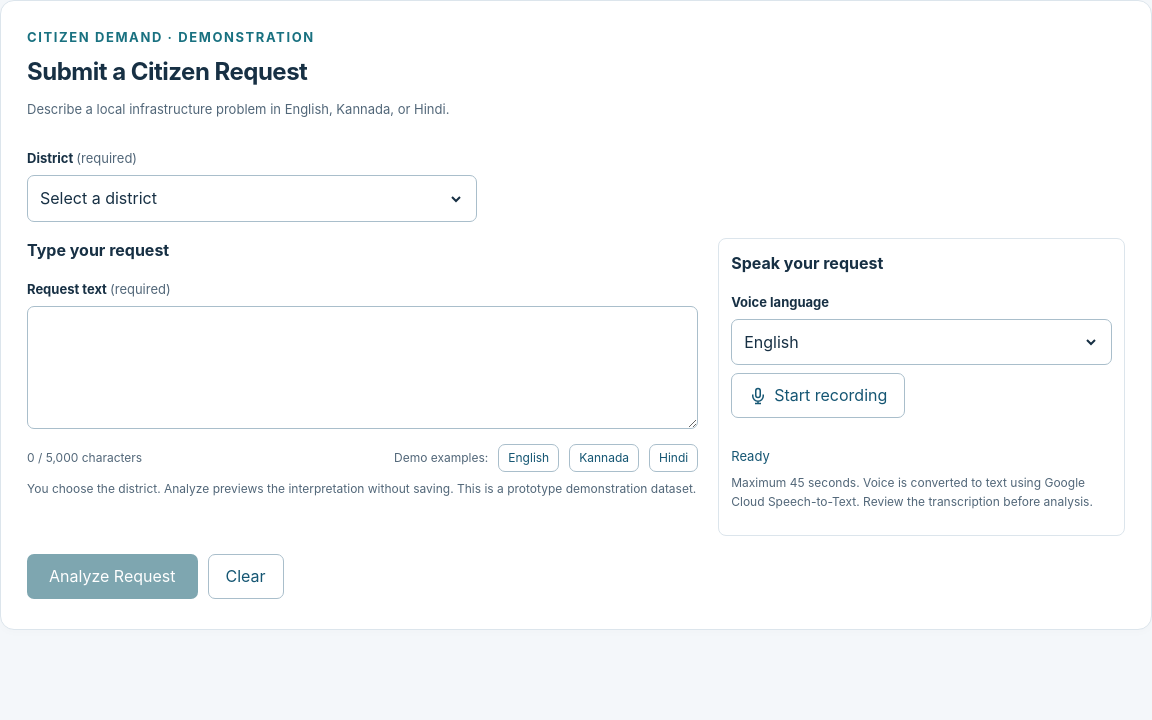
it: permission denial is safe and never uploads
The image size is (1152, 720).
Click the button "Start recording".
click(818, 396)  # box [731,373,905,418]
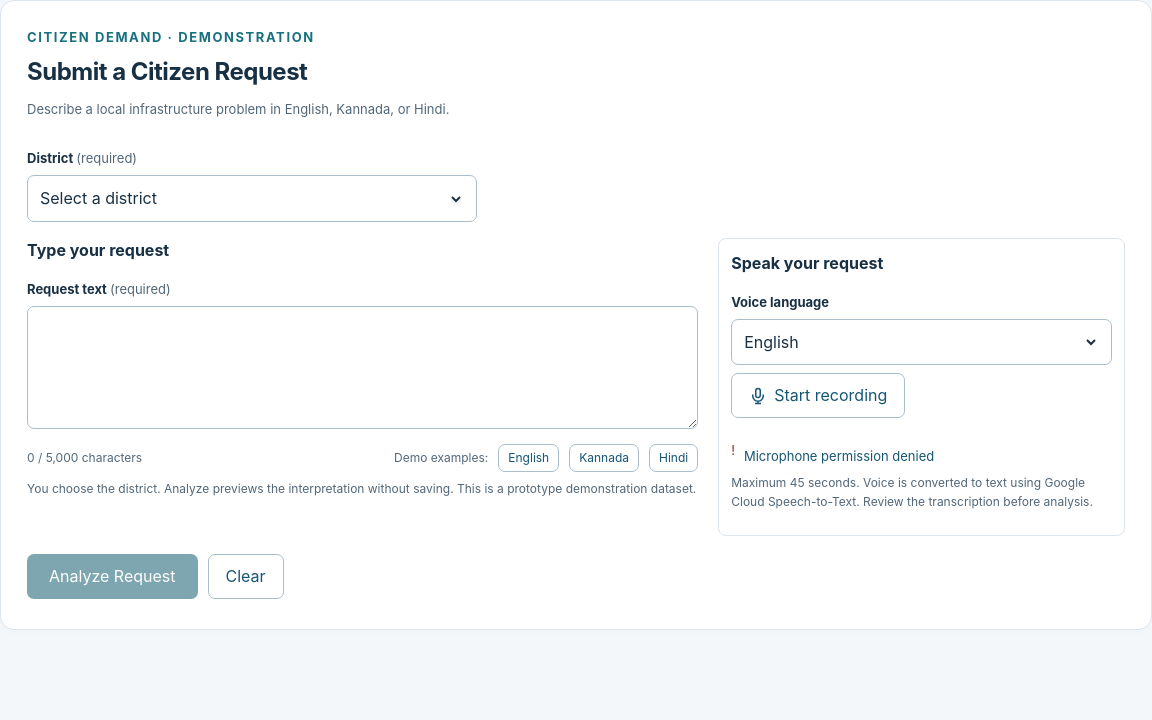
Expected: the text "Microphone permission denied" is shown, [744,446,934,466]
